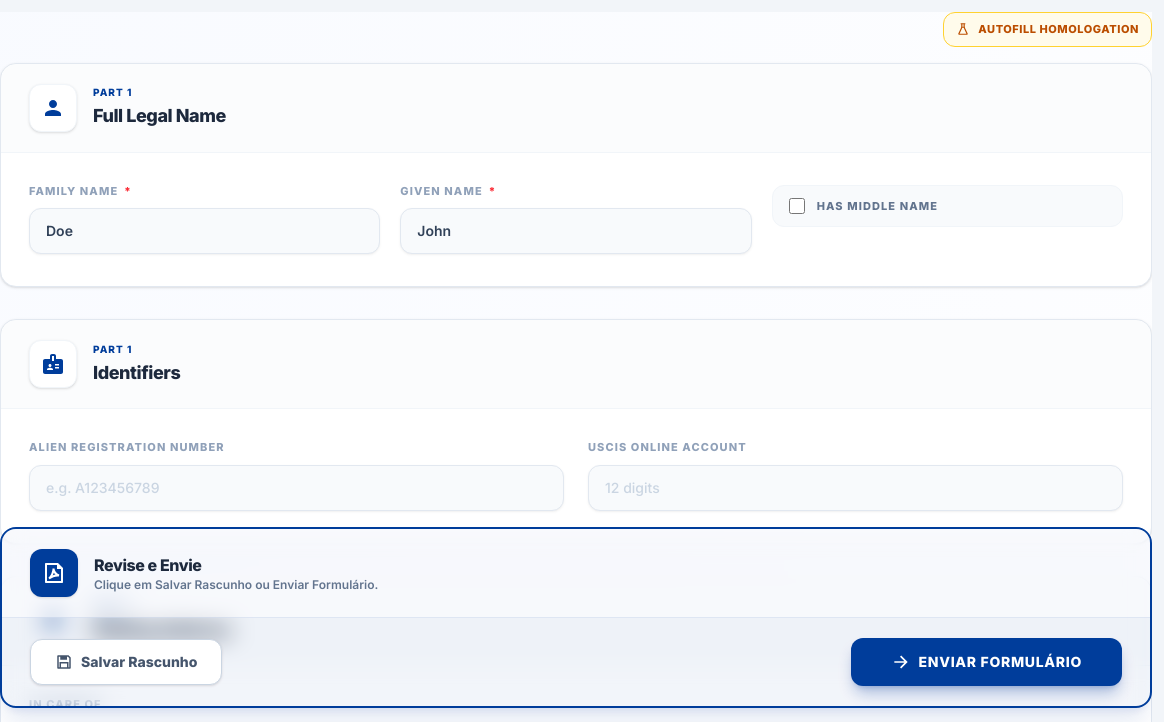
I539FormStep › should show validation errors for invalid data
Clear the field labelled "Family Name *" at (205, 231), box [29,208,380,254]
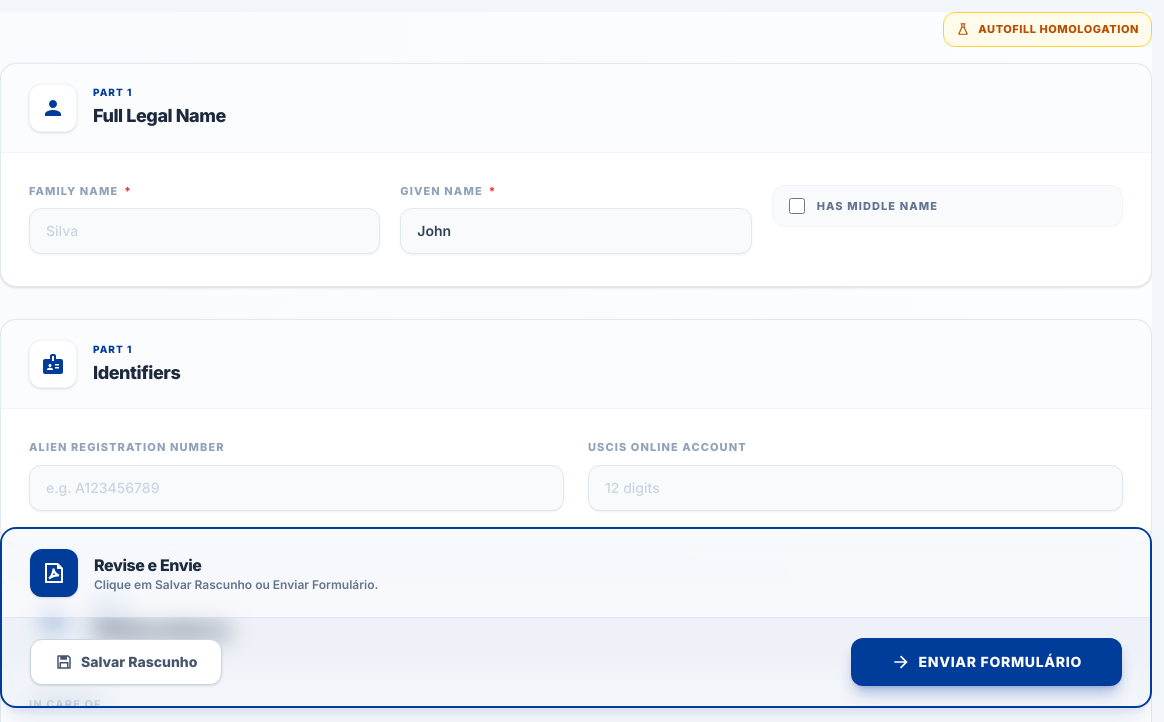
Click the button "Enviar Formulário" at (986, 662), box [850,638,1122,686]
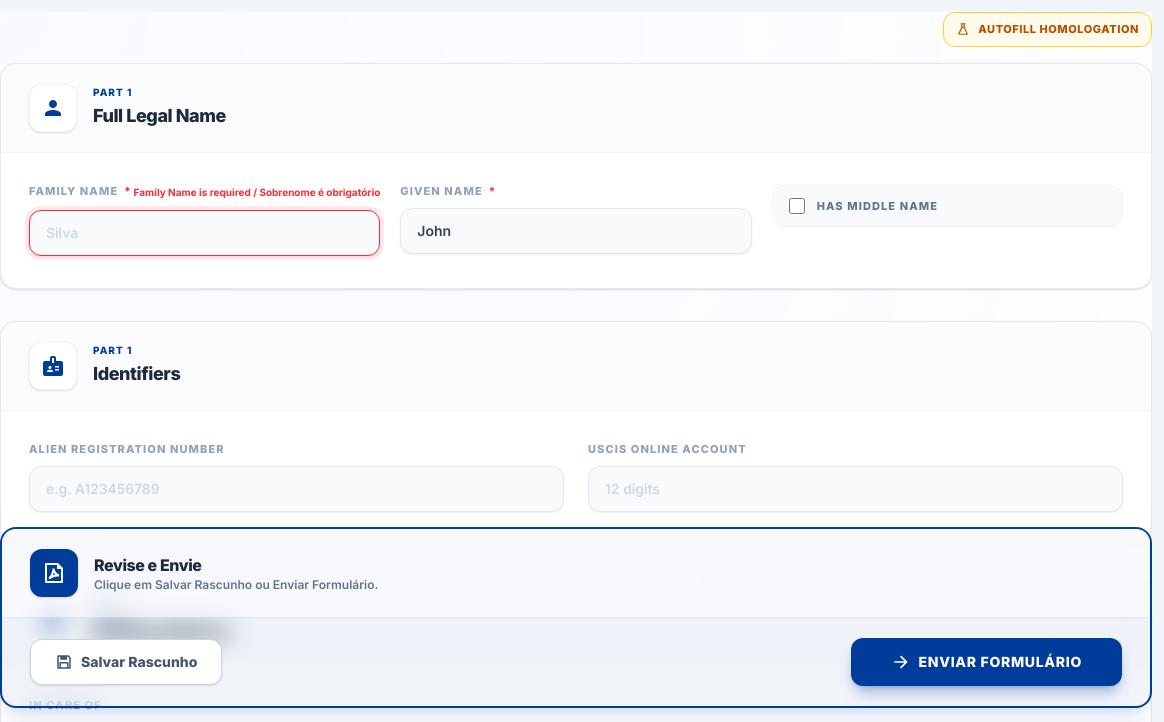
Expected: the text "Family Name is required / Sobrenome é obrigatório" is shown, [134,184,380,200]
